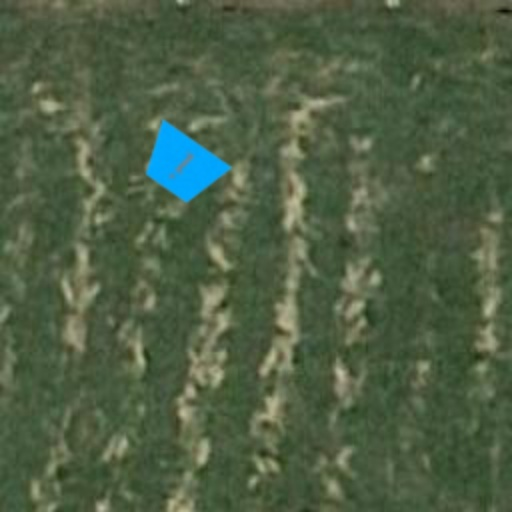trapezoid: (122, 106, 242, 226)
